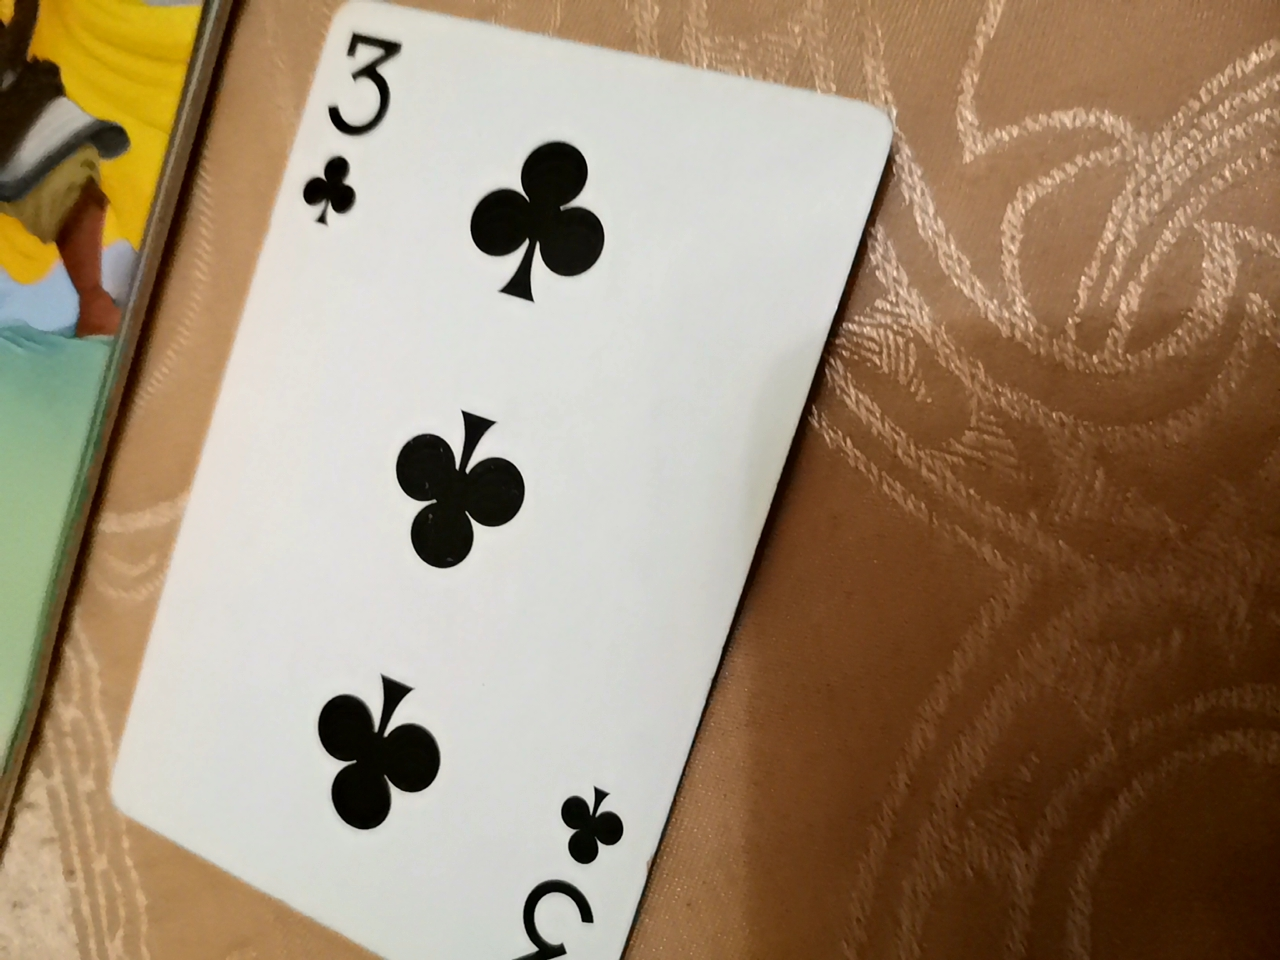mh 3: (116, 61, 887, 955)
